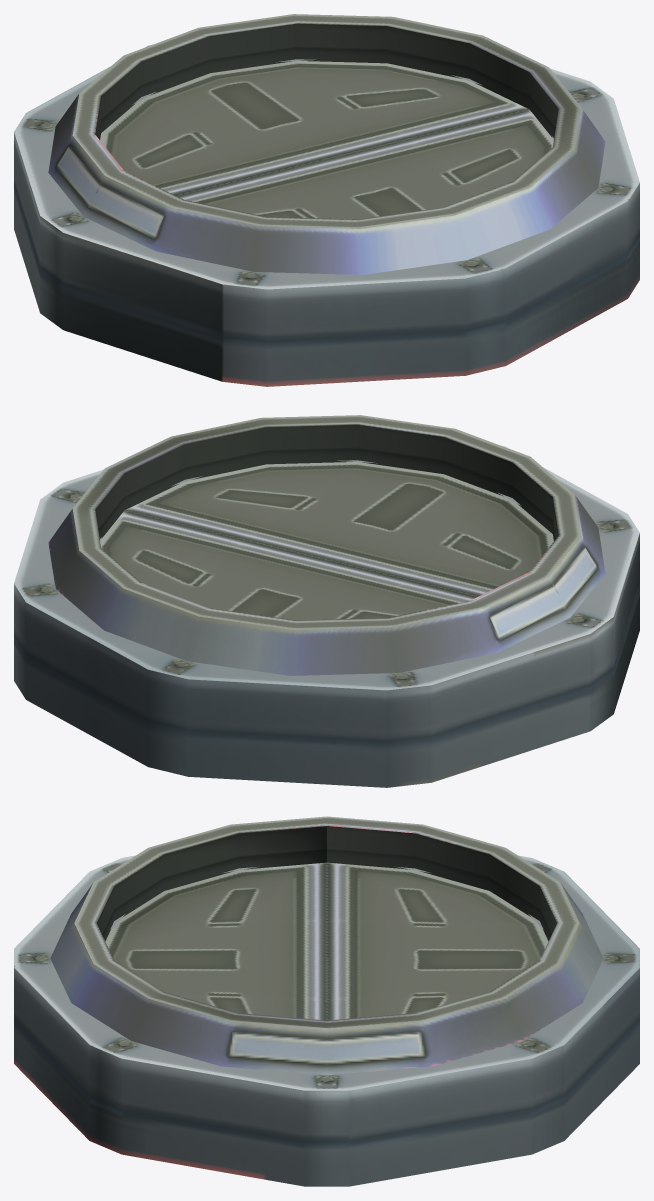
Rendered from Haz_Light_B.fbx.
3 renders of one model, top to bottom at view 1: azimuth 30°, elevation 25°; view 2: azimuth 150°, elevation 25°; view 3: azimuth 270°, elevation 25°, orthographic.
Visible parts, largest first — view 1: Haz_Light_B; view 2: Haz_Light_B; view 3: Haz_Light_B.
Part boxes in pixels (x1,y1,x2,y2): Haz_Light_B: (14, 14, 639, 386); Haz_Light_B: (14, 415, 639, 787); Haz_Light_B: (14, 816, 639, 1186).
Bounding box in the file's own units: 42.74 × 9.87 × 42.74.
